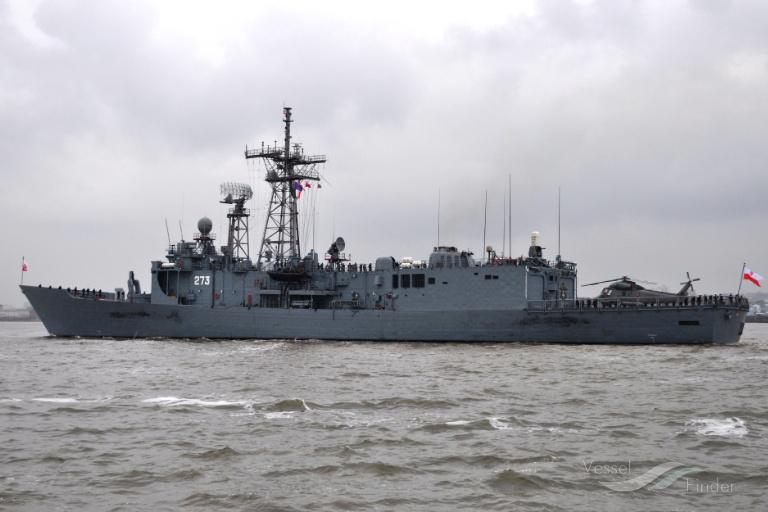OCR: (189, 271, 214, 289)
